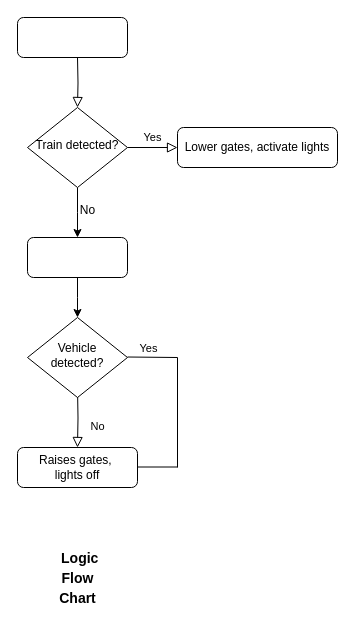
Image size: 355x625. Some labels were removed from this diagram. The centre of each missing label's shape, as x and y in pixels:
"Check train sensor" goes at pixel 72 37.
"Check vehicle sensor" goes at pixel 77 257.
